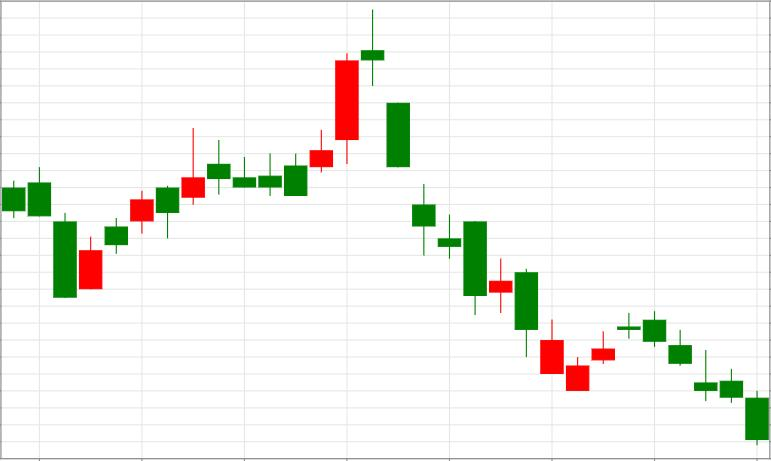evening_star_fall: (233, 10, 410, 196)
